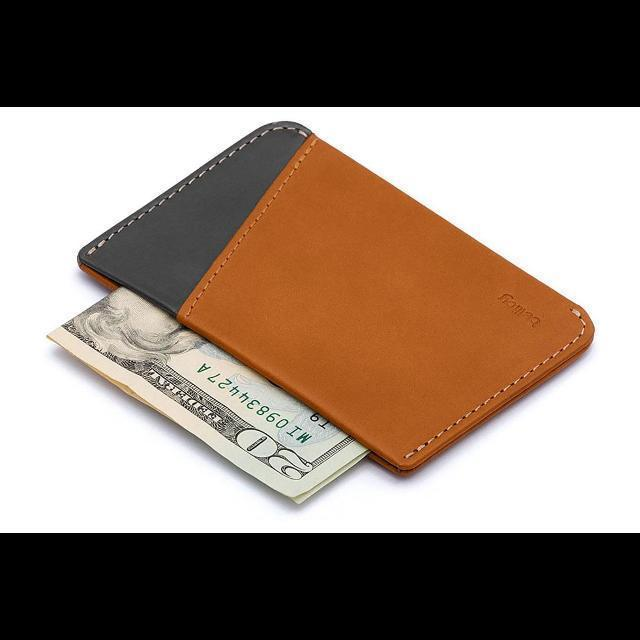wallet: (74, 118, 594, 474)
